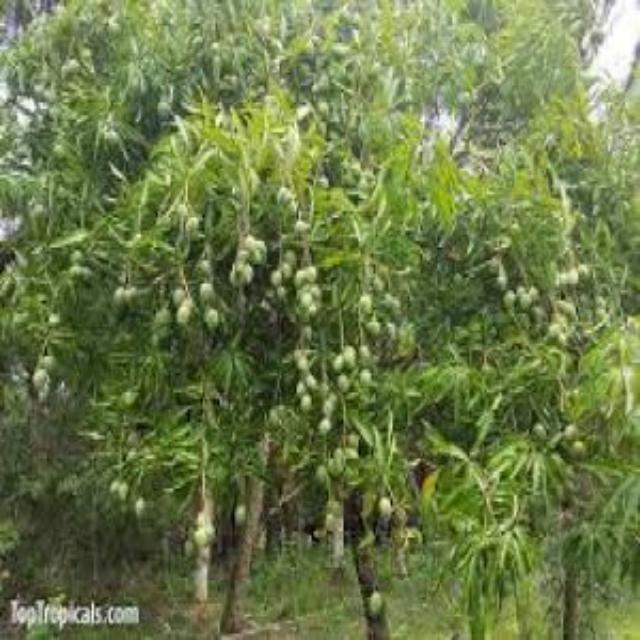tree: (2, 1, 580, 632)
